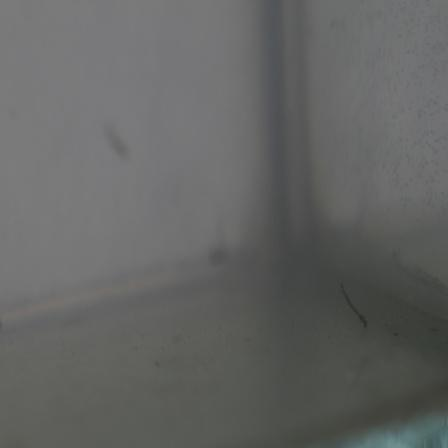Jentik-Nyamuk: (337, 278, 374, 333)
